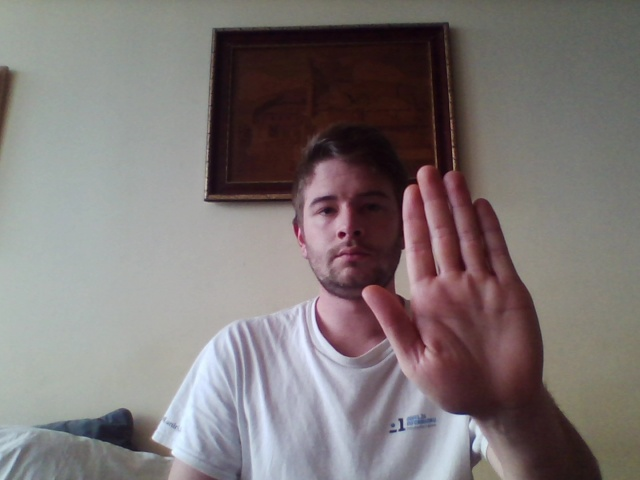pozdrav: (360, 163, 546, 418)
